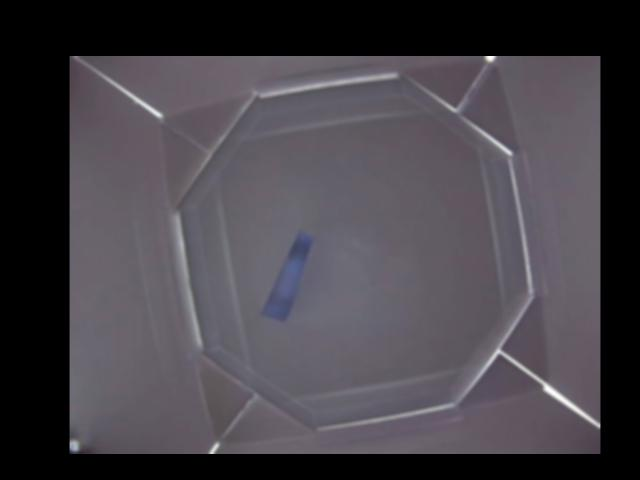Mooli: (260, 233, 314, 324)
